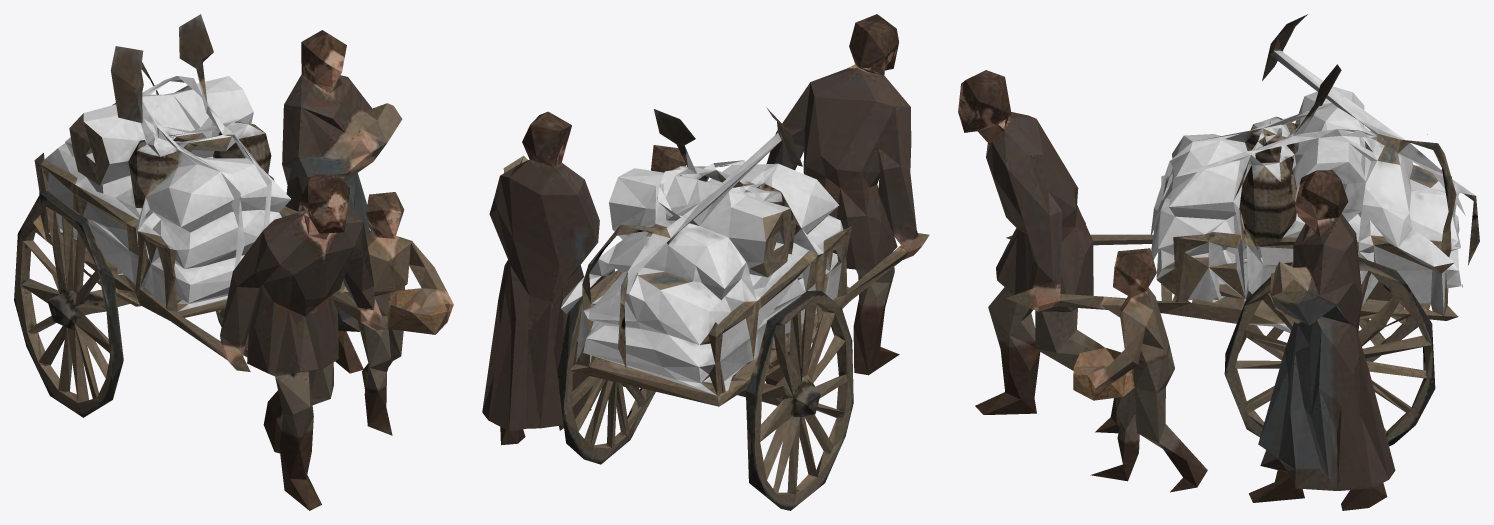
Rendered from realistic-cc0.95bf4458adc9.settlers.glb.
The picture shows the model from 3 angles, left to right: view 1: azimuth 30°, elevation 25°; view 2: azimuth 150°, elevation 25°; view 3: azimuth 270°, elevation 25°; orthographic projection. The views are drawn at different scales.
Parts seen in each view (by area): view 1: settlers; view 2: settlers; view 3: settlers.
Boxes of the visible parts, <box> form: settlers: <box>14,14,453,510</box>; settlers: <box>482,14,929,510</box>; settlers: <box>958,14,1479,510</box>.
Bounding box in the file's own units: 1.76 × 1.85 × 2.32.
2 materials, 2 textured.
